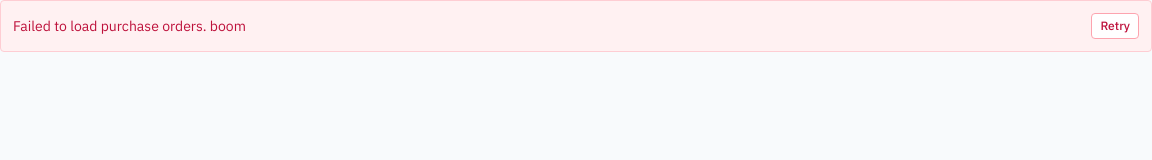
Test case: R6 v2 — error + retry › error UI shows Retry; clicking it fires a second GET
Step 1. Click the button with test id "bg2-pos-retry" → (1115, 26), box [1091,13,1139,39]
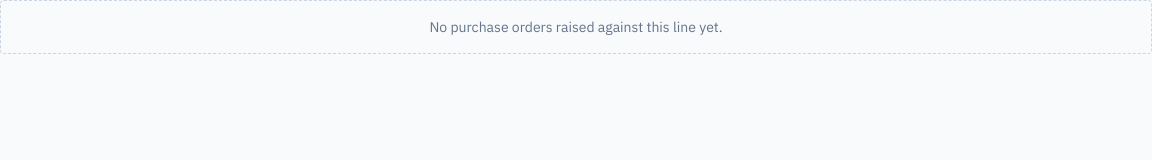
Result: the text "No purchase orders raised against this line yet." is shown at [0,0,1151,54]
